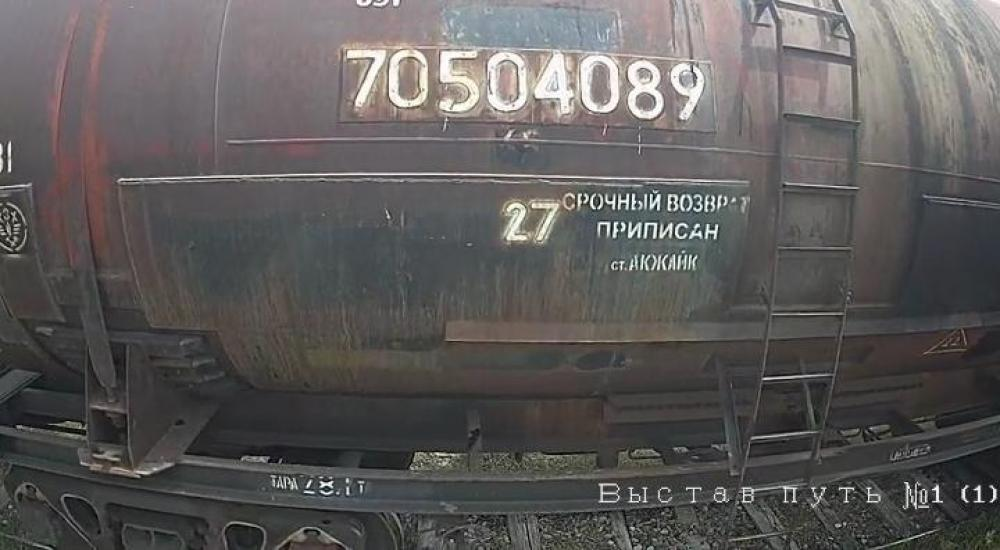Wagon-number: (340, 48, 710, 128)
